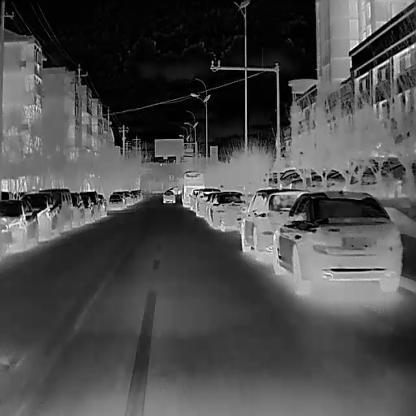car: (273, 191, 402, 295), (241, 187, 310, 254), (1, 197, 38, 251), (23, 191, 60, 240), (203, 190, 245, 231), (41, 186, 73, 232), (180, 168, 203, 207), (66, 189, 85, 227), (193, 189, 215, 219), (75, 190, 93, 223), (84, 189, 99, 220), (93, 193, 106, 217), (107, 191, 123, 210), (161, 189, 176, 203), (188, 185, 197, 208)
